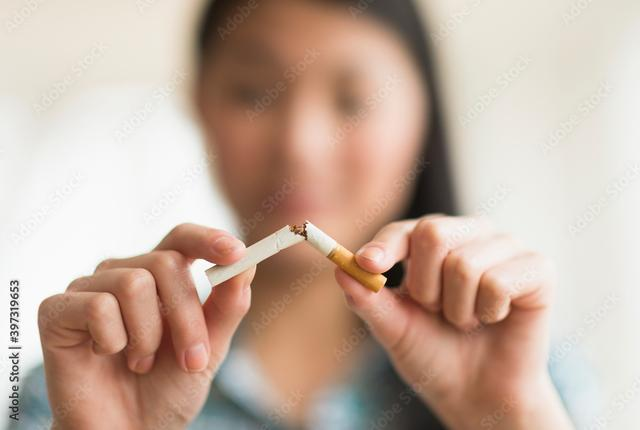Cigarette: (190, 221, 307, 305), (291, 219, 388, 294)
